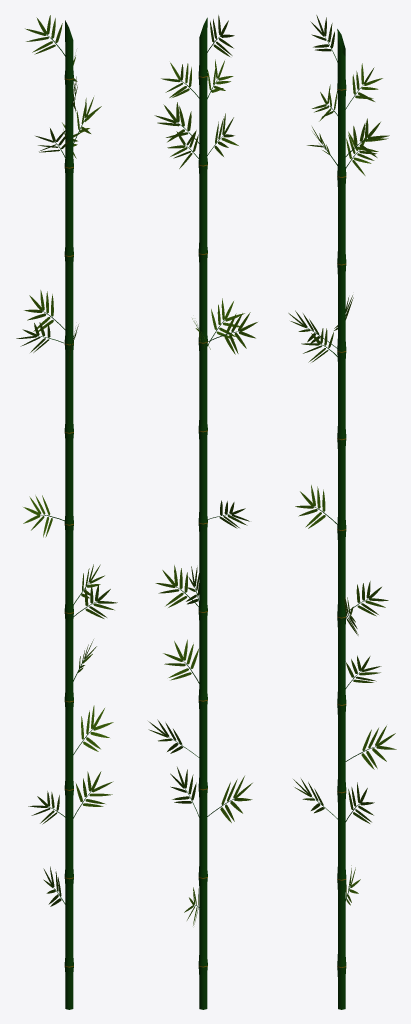
File: BambooAv1.fbx
The picture shows the model from 3 angles, left to right: view 1: azimuth 30°, elevation 25°; view 2: azimuth 150°, elevation 25°; view 3: azimuth 330°, elevation 25°; orthographic projection.
Visible parts, largest first — view 1: BambooA; view 2: BambooA; view 3: BambooA.
Part boxes in pixels (x1,y1,x2,y2): BambooA: [16, 15, 117, 1009]; BambooA: [148, 15, 257, 1009]; BambooA: [288, 15, 396, 1009].
Bounding box in the file's own units: 123 × 1123 × 93.75.
